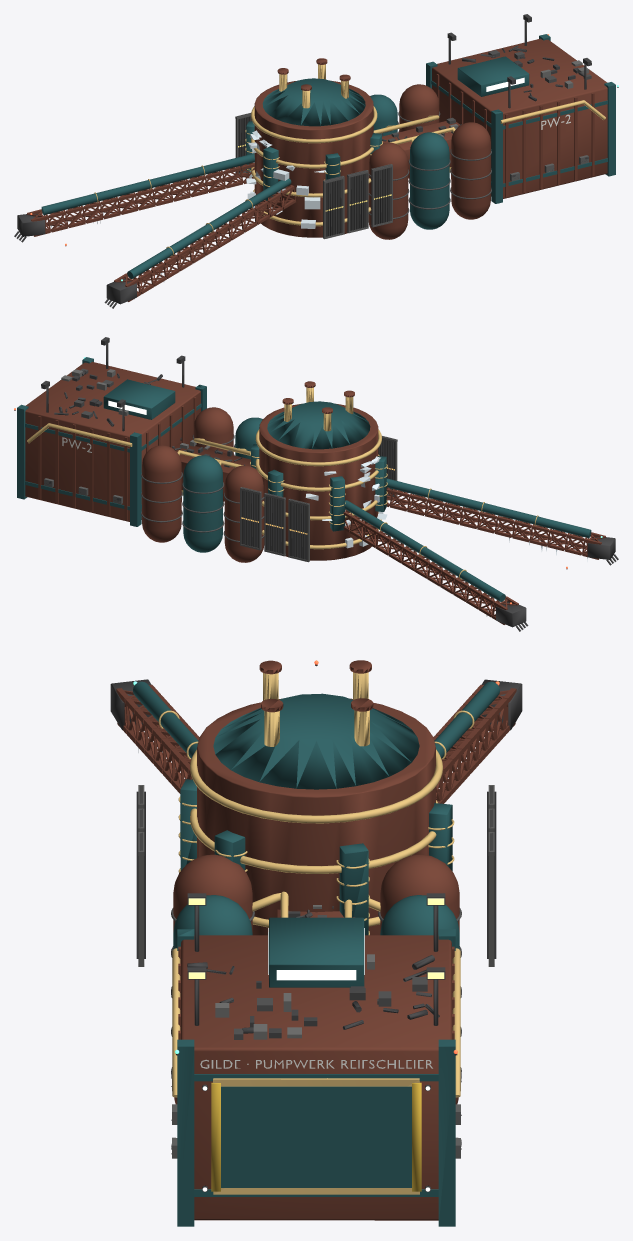
The model's file is Pumpwerk.glb.
3 renders of one model, top to bottom at view 1: azimuth 30°, elevation 25°; view 2: azimuth 150°, elevation 25°; view 3: azimuth 270°, elevation 25°, orthographic. The views are drawn at different scales.
Parts seen in each view (by area): view 1: Pumpwerk_lack, Pumpwerk_metall, Pumpwerk_matt; view 2: Pumpwerk_lack, Pumpwerk_metall, Pumpwerk_matt; view 3: Pumpwerk_lack, Pumpwerk_metall, Pumpwerk_warn, Pumpwerk_glow_Fenster hell, Pumpwerk_matt.
Boxes of the visible parts, <box> form: Pumpwerk_lack: <box>14,14,618,308</box>; Pumpwerk_metall: <box>94,64,605,256</box>; Pumpwerk_matt: <box>51,114,570,299</box>; Pumpwerk_lack: <box>14,337,618,631</box>; Pumpwerk_metall: <box>27,387,538,579</box>; Pumpwerk_matt: <box>62,437,587,617</box>; Pumpwerk_lack: <box>110,660,522,1226</box>; Pumpwerk_metall: <box>158,672,474,1194</box>; Pumpwerk_warn: <box>211,1082,421,1191</box>; Pumpwerk_glow_Fenster hell: <box>268,928,364,980</box>; Pumpwerk_matt: <box>138,747,432,1068</box>.
Bounding box in the file's own units: 151 × 43.6 × 51.74.
